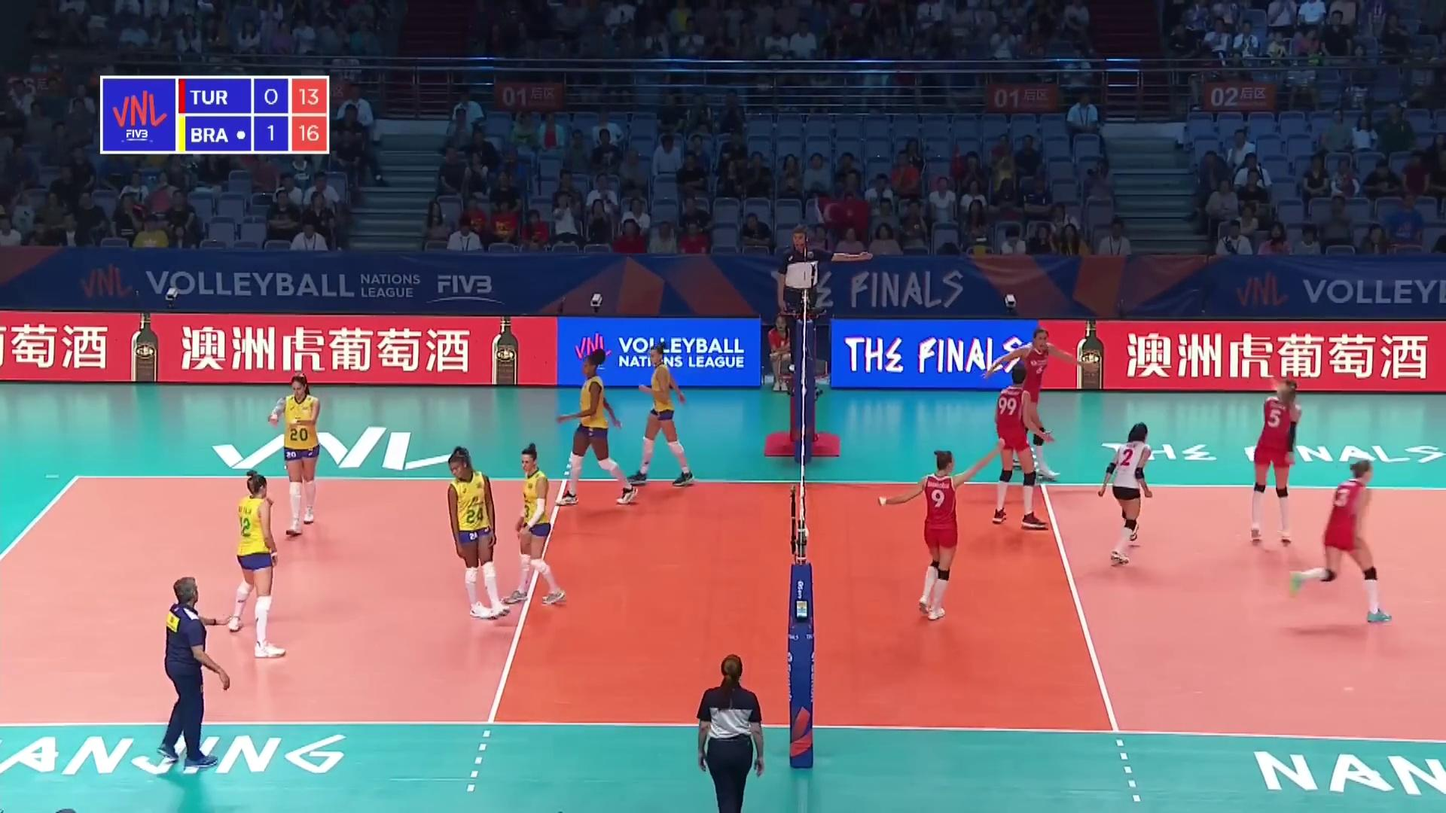player: (885, 448, 983, 621), (1290, 461, 1391, 624), (993, 329, 1080, 483), (562, 350, 642, 508), (439, 451, 510, 620), (226, 470, 288, 663), (505, 447, 567, 615), (990, 368, 1051, 532), (630, 342, 695, 485), (1249, 376, 1301, 546), (1097, 422, 1159, 561), (273, 375, 322, 544)
refree: (690, 657, 761, 811), (780, 223, 848, 375)
